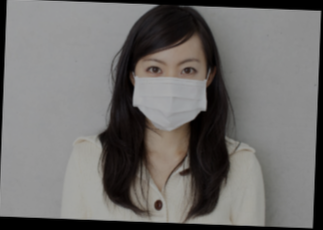with_mask: (133, 56, 208, 131)
